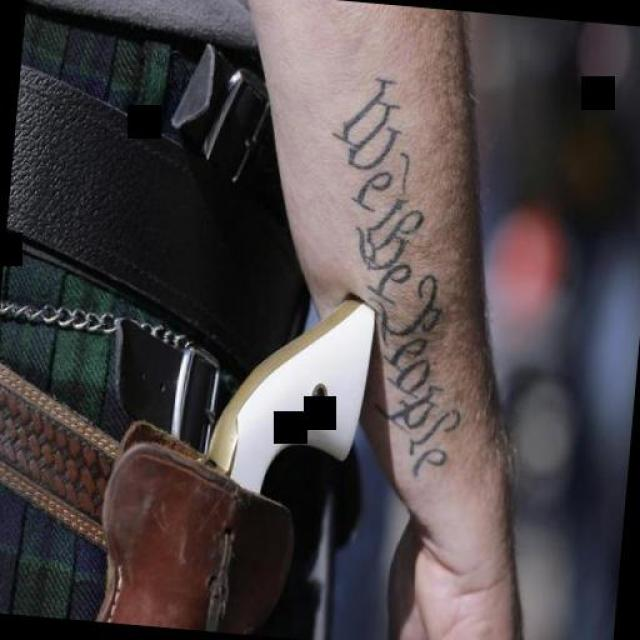gun: (79, 281, 382, 640)
